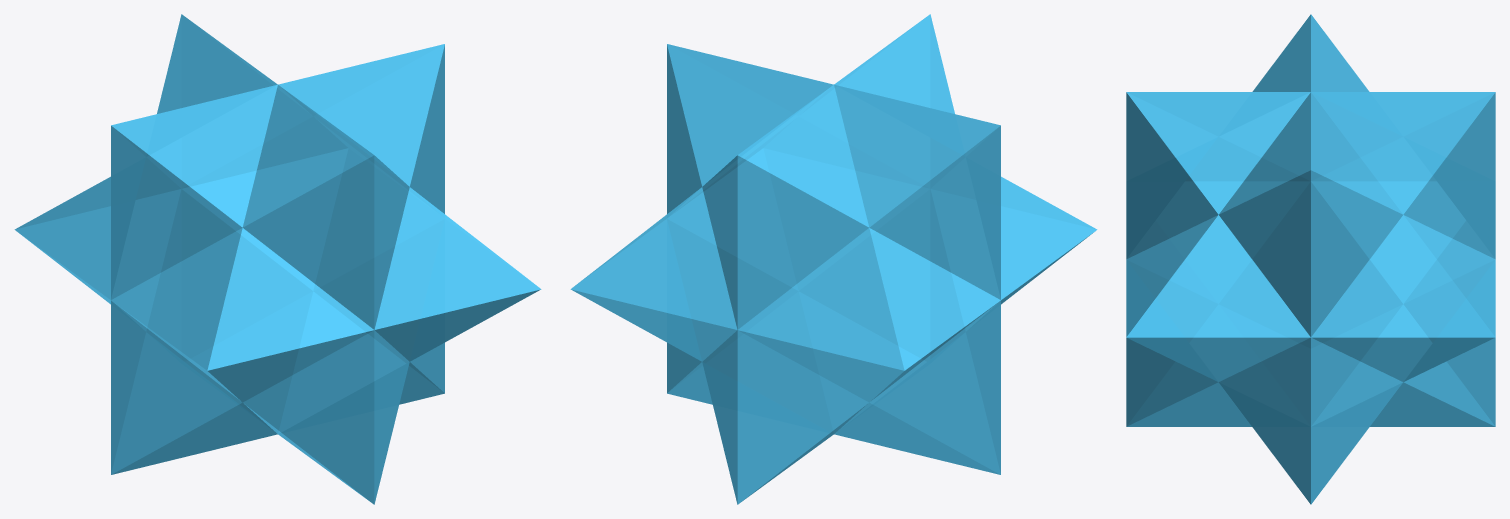
The model's file is Escher.obj.
3 renders of one model, left to right at view 1: azimuth 30°, elevation 25°; view 2: azimuth 150°, elevation 25°; view 3: azimuth 270°, elevation 25°, orthographic. The views are drawn at different scales.
Bounding box in the file's own units: 2 × 2 × 2.
